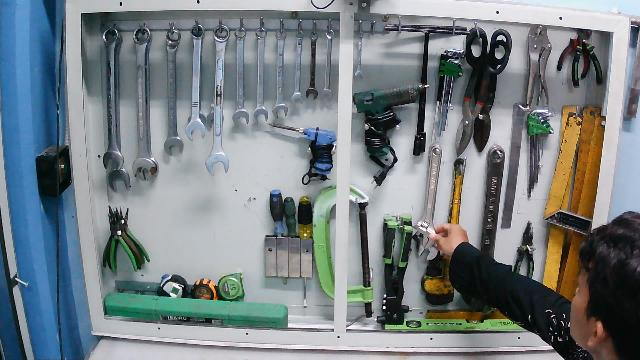kunci_inggris: (411, 143, 445, 262)
